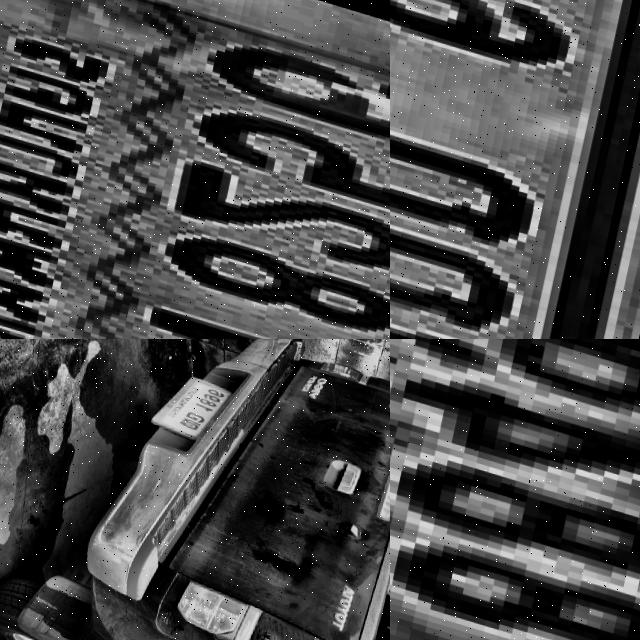license-plate: (0, 0, 390, 339), (390, 0, 640, 339), (390, 339, 640, 640), (146, 356, 236, 444)
